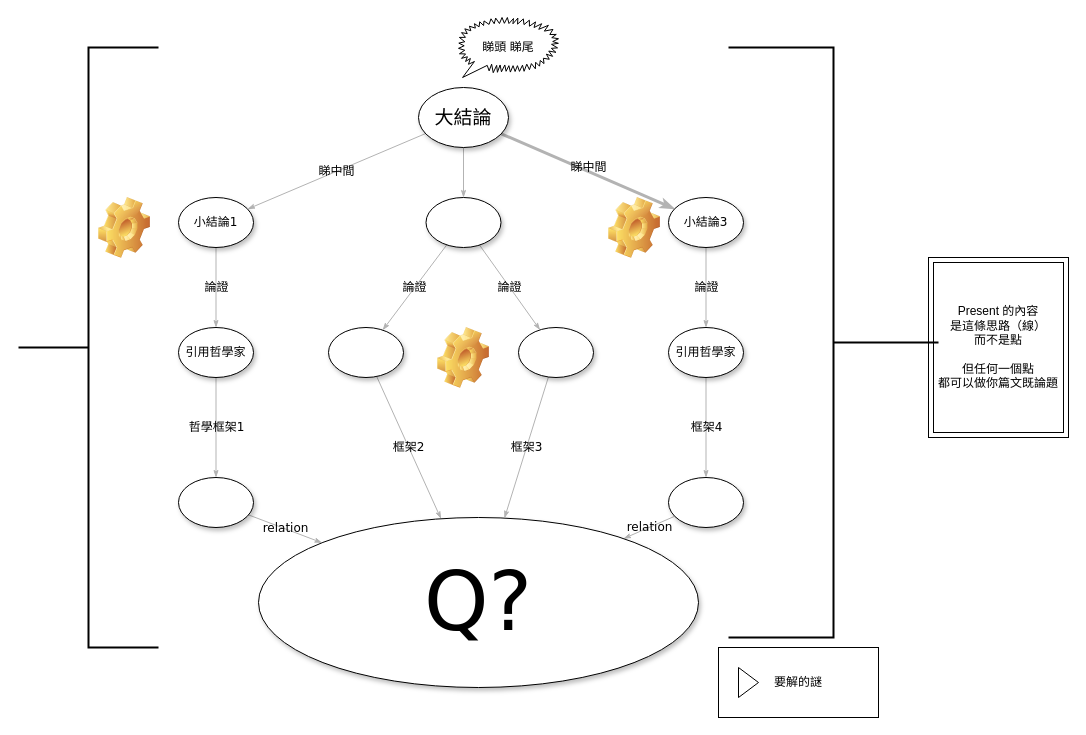
This 1086x735 diagram has some shape labels left out. The centre of each missing label's shape, as x and y in pixels:
Q1: pixel 217 503
Q2: pixel 707 503
Q3: pixel 367 353
Q4: pixel 557 353
小結論2: pixel 464 223
